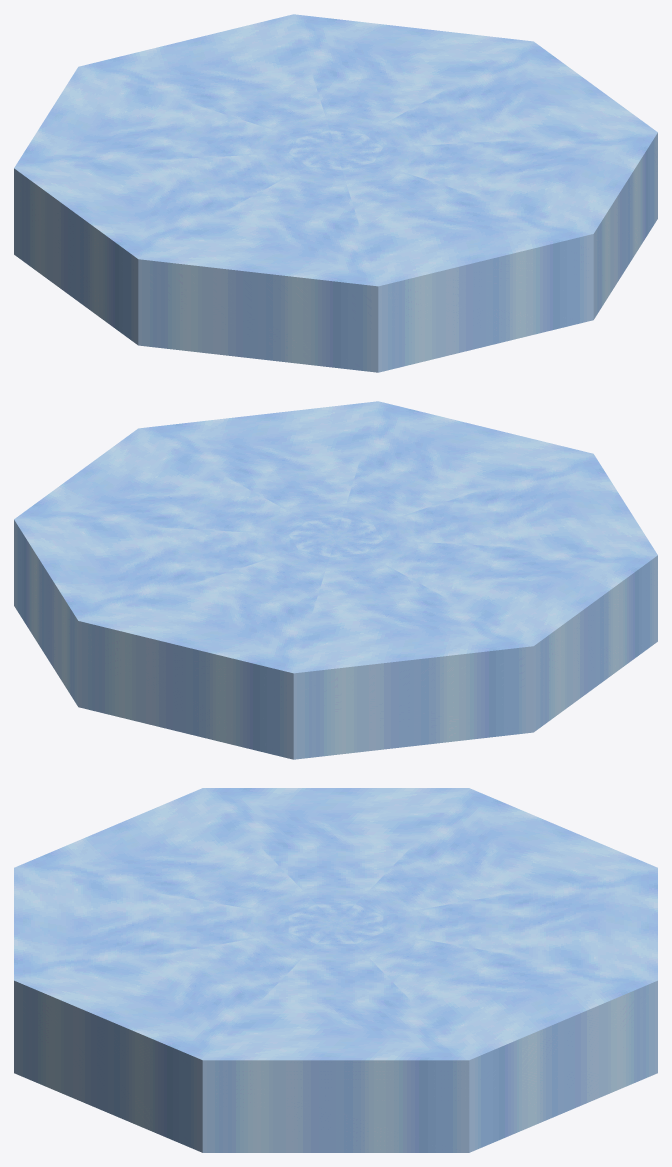
File: ewb_ice_a.glb
3 views of the same model, one above another, from view 1: azimuth 30°, elevation 25°; view 2: azimuth 150°, elevation 25°; view 3: azimuth 270°, elevation 25° (orthographic). The views are drawn at different scales.
Visible parts, largest first — view 1: ewb_ice_a; view 2: ewb_ice_a; view 3: ewb_ice_a.
Boxes of the visible parts, x1=… form: ewb_ice_a: x1=14, y1=14, x2=657, y2=372; ewb_ice_a: x1=14, y1=401, x2=657, y2=759; ewb_ice_a: x1=14, y1=788, x2=657, y2=1152.
Size of the model in its own units: 12.3 by 1.95 by 12.3.
Materials: 1 (1 with a texture image).
